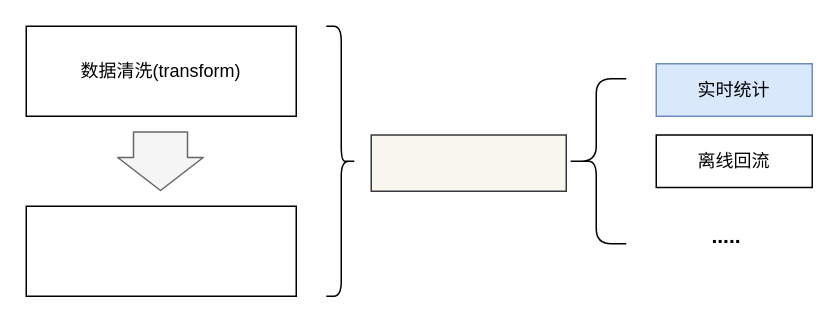
Some shapes in this 839 by 323 pixel diagram are drawn without their labels. The shapes that lost their labels are listed below. From the top down, each one's box as (x1, y1, x2, y2) in pixels, then its label:
(370, 134, 566, 191): Sink Strategy
(25, 205, 296, 296): 数据写入(sink)
